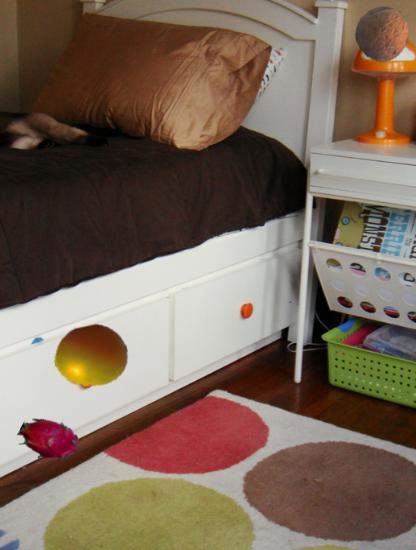Cherry: (54, 319, 128, 393)
Pitahaya: (18, 409, 81, 472)
Walnut: (356, 6, 411, 61)
